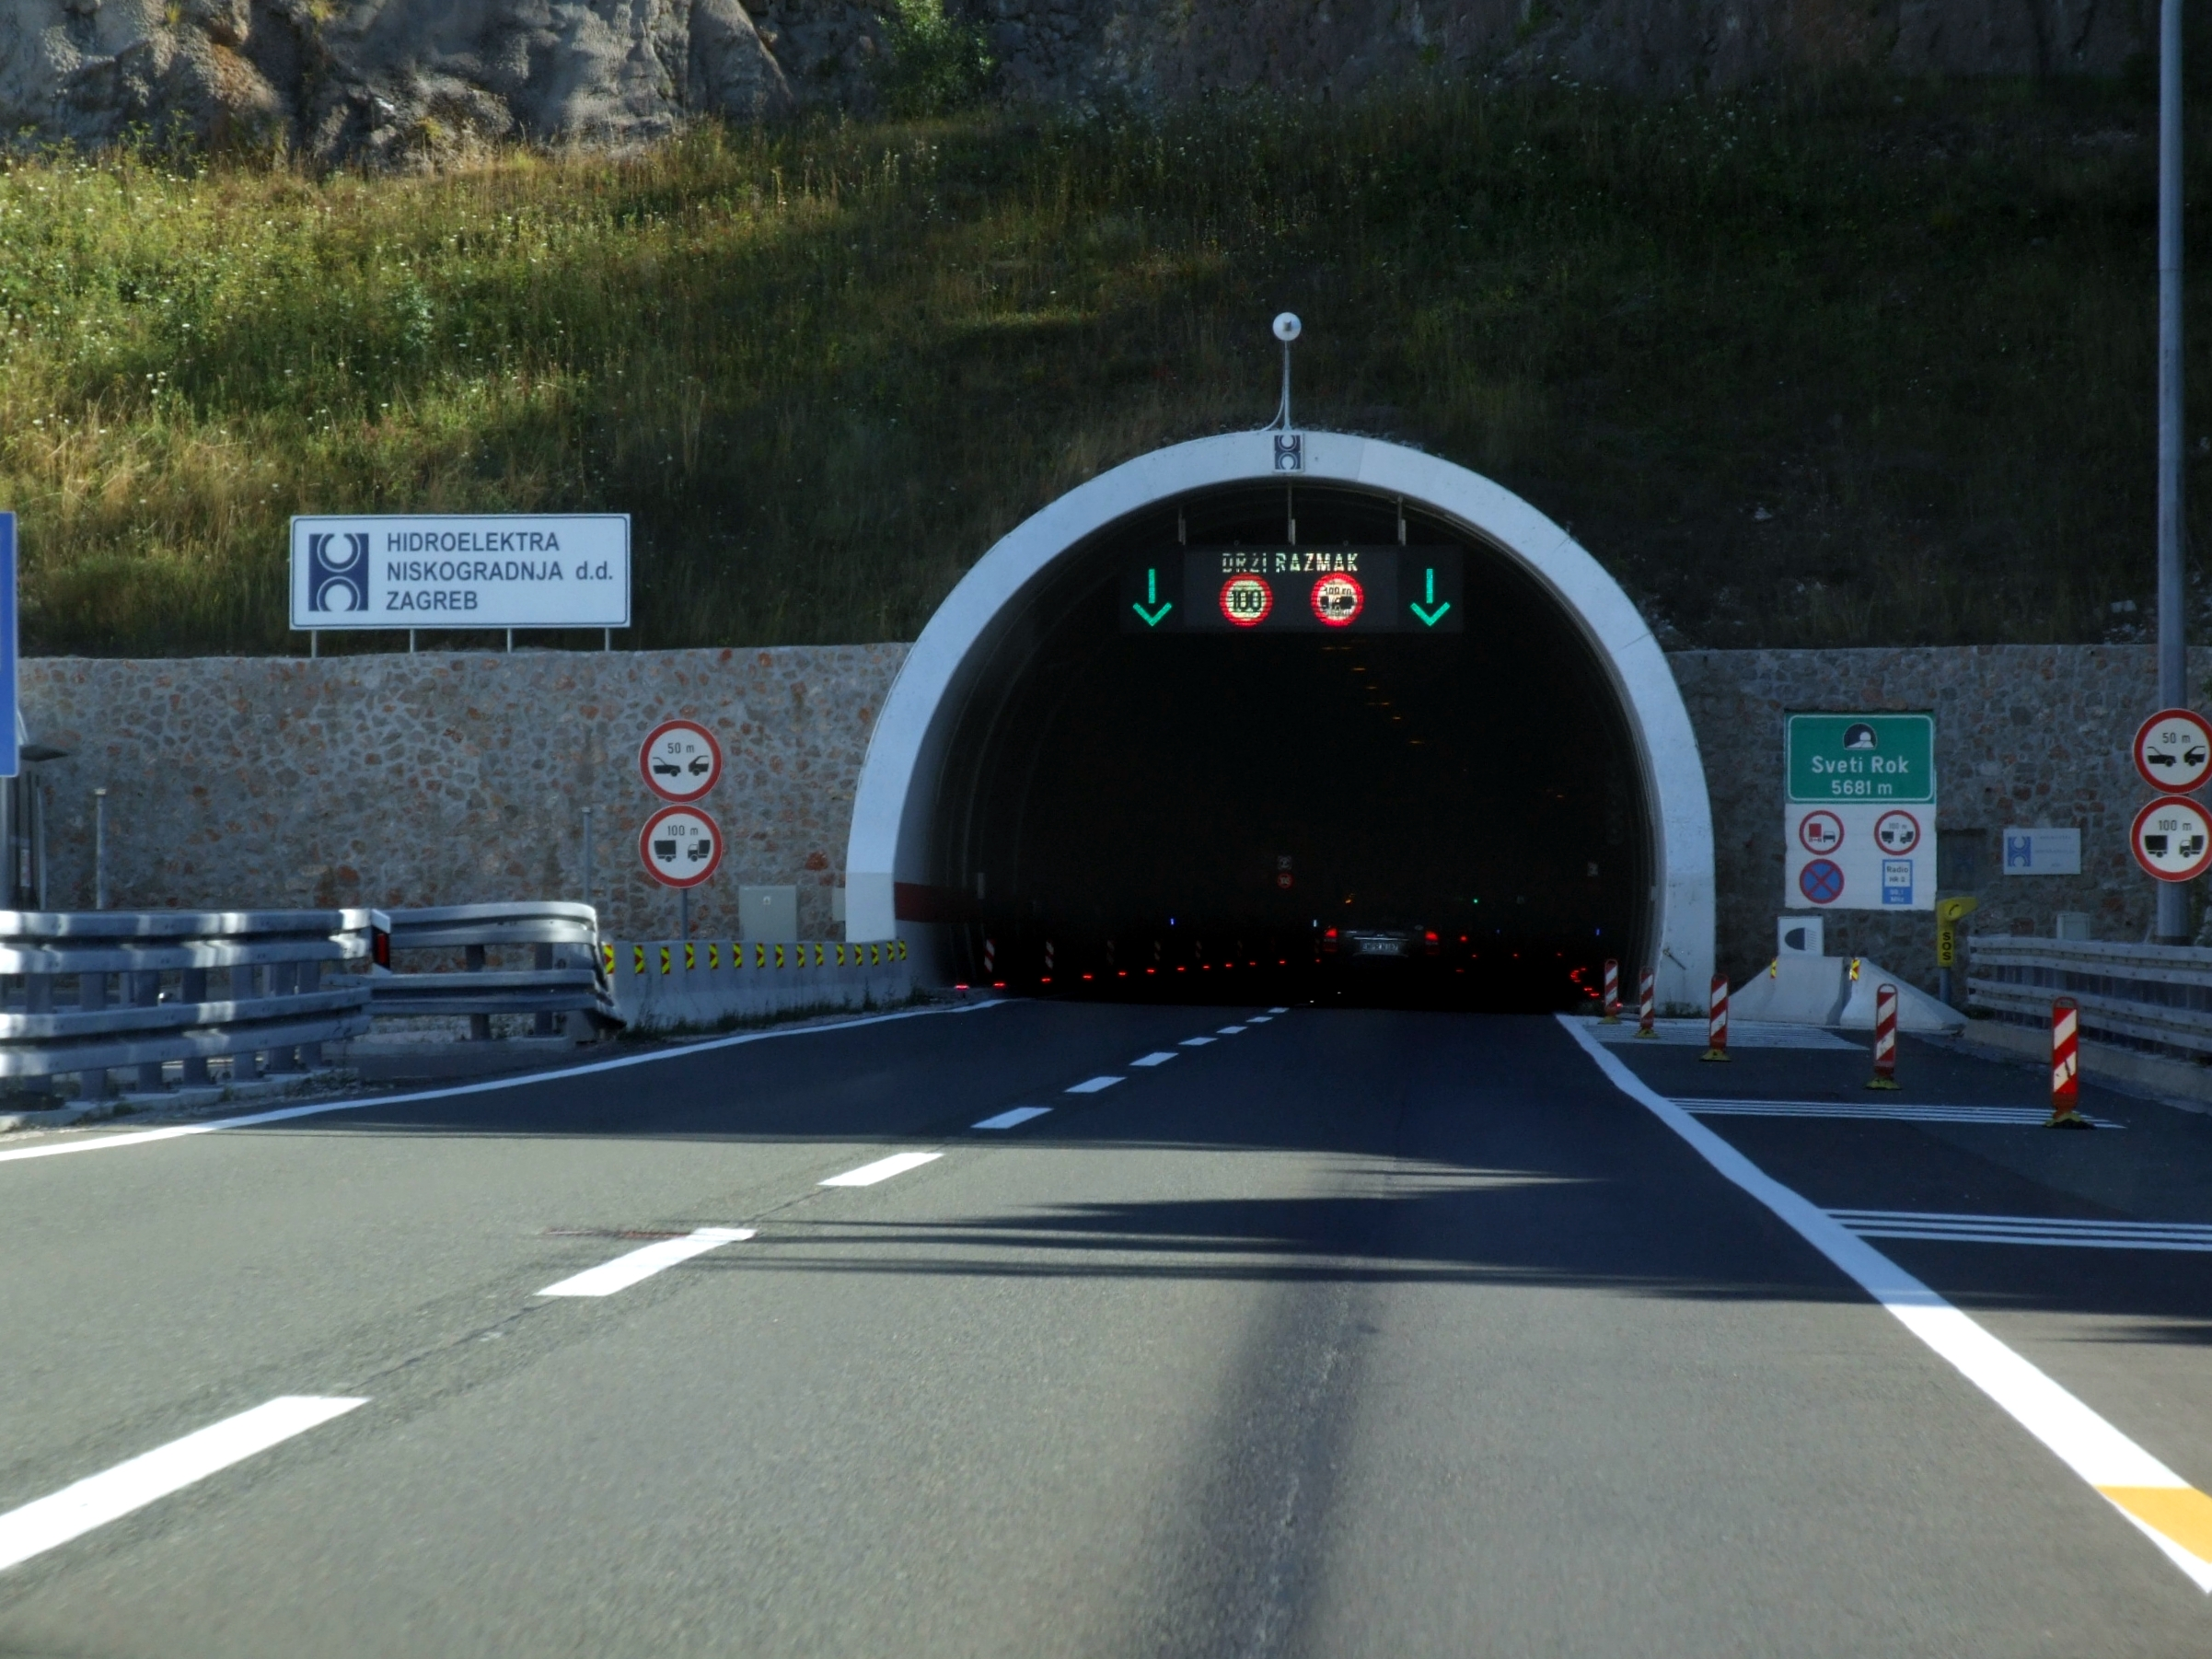Real_Tunnel: (838, 423, 1723, 1030)
